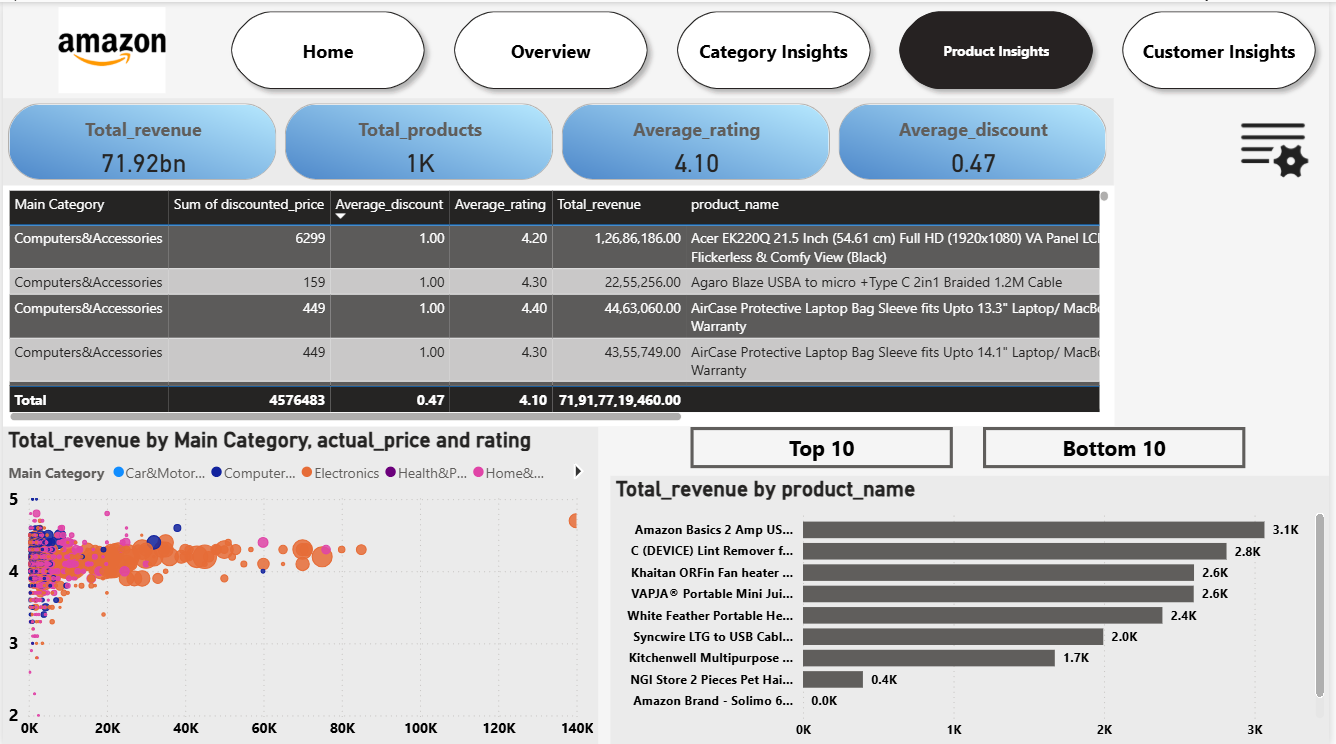

What the dashboard file says about the page in this screenshot:
{"tool":"powerbi","page":{"name":"Product Insights","canvas":[1280,720],"ordinal":3},"visuals":[{"type":"image","box":[0,0,211.1,92.9],"z":0},{"type":"pageNavigator","box":[211,0,1069,93.3],"z":1000},{"type":"cardVisual","fields":{"Data":["amazon.Total_revenue","amazon.Total_products","amazon.Average_rating","amazon.Average_discount"]},"box":[0,92.9,1072,84],"z":2000},{"type":"scatterChart","fields":{"Size":["amazon.Total_revenue"],"Y":["amazon.rating"],"X":["amazon.actual_price"],"Series":["amazon.Main Category"]},"box":[0,409.6,574.7,310.3],"z":3000},{"type":"clusteredBarChart","fields":{"Category":["amazon.product_name"],"Y":["amazon.Total_revenue"]},"box":[585.9,456.8,693.9,263.2],"z":4000},{"type":"actionButton","box":[664.1,409.6,253.2,39.7],"z":5000},{"type":"actionButton","box":[945.9,409.6,253.2,39.7],"z":6000},{"type":"tableEx","fields":{"Values":["amazon.Main Category","Sum(amazon.discounted_price)","amazon.Average_discount","amazon.Average_rating","amazon.Total_revenue","amazon.product_name"]},"box":[0,177.3,1280,232.8],"z":7000},{"type":"actionButton","title":"show","box":[1183.1,93.6,96.6,84.5],"z":7500}]}

Visuals, with their boxes in screenshot pixels (x1, y1, x2, y2), scaled from the page's 1280x720 canvas onto the 1336x744 screenshot:
image: 0,0,220,96
pageNavigator: 220,0,1335,96
cardVisual - amazon.Total_revenue x amazon.Total_products: 0,96,1119,183
scatterChart - amazon.Total_revenue x amazon.rating: 0,423,600,743
clusteredBarChart - amazon.product_name x amazon.Total_revenue: 612,472,1335,743
actionButton: 693,423,957,464
actionButton: 987,423,1252,464
tableEx - amazon.Main Category x Sum(amazon.discounted_price): 0,183,1335,424
"show" actionButton: 1235,97,1335,184
